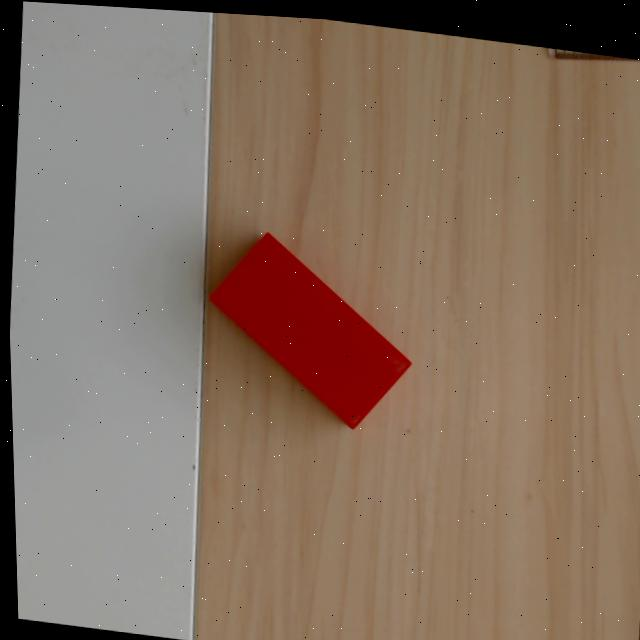Balok-Merah-1005025: (205, 229, 413, 430)
